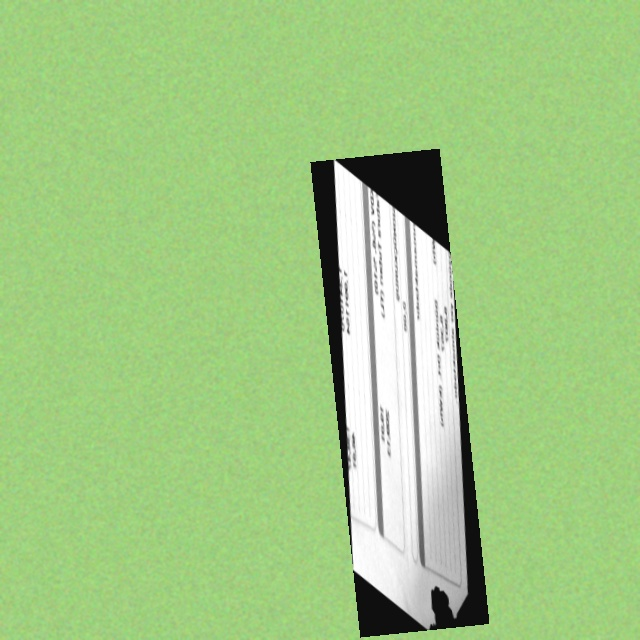electricity-bill: (309, 148, 488, 637)
